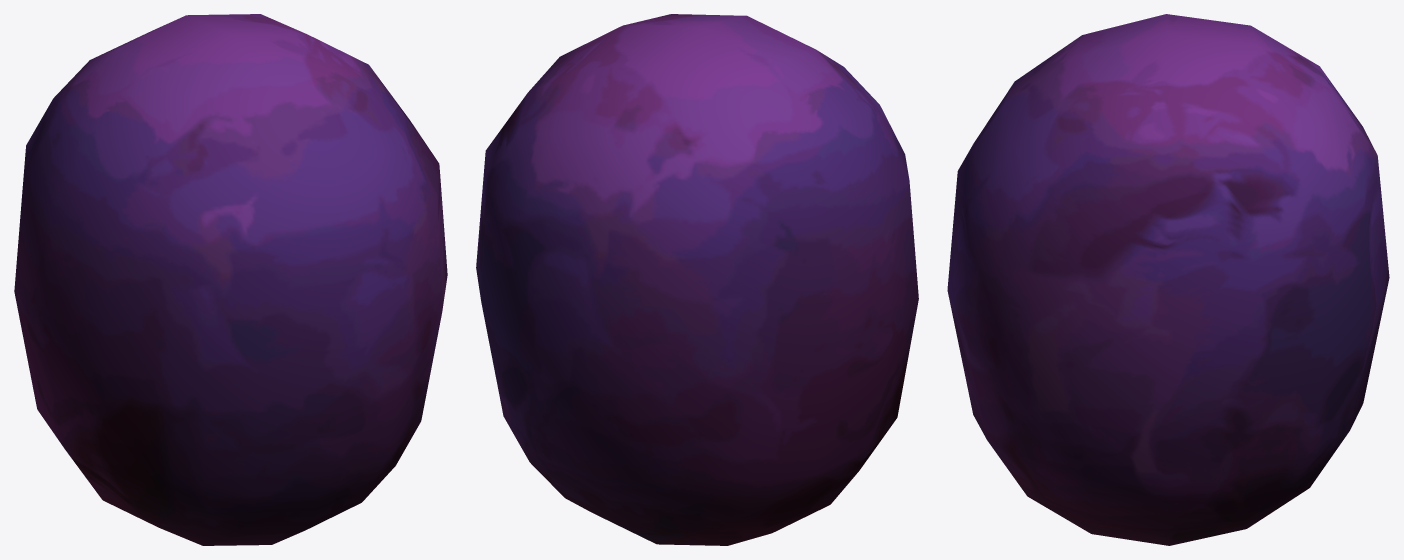
The model's file is SM_Grape_A.fbx.
The picture shows the model from 3 angles, left to right: view 1: azimuth 30°, elevation 25°; view 2: azimuth 150°, elevation 25°; view 3: azimuth 270°, elevation 25°; orthographic projection. The views are drawn at different scales.
Visible parts, largest first — view 1: SM_Grape_A; view 2: SM_Grape_A; view 3: SM_Grape_A.
Part boxes in pixels (x1,y1,x2,y2): SM_Grape_A: (14, 14, 447, 545); SM_Grape_A: (476, 14, 918, 545); SM_Grape_A: (947, 14, 1389, 545).
Size of the model in its own units: 3.31 by 4.13 by 3.35.
